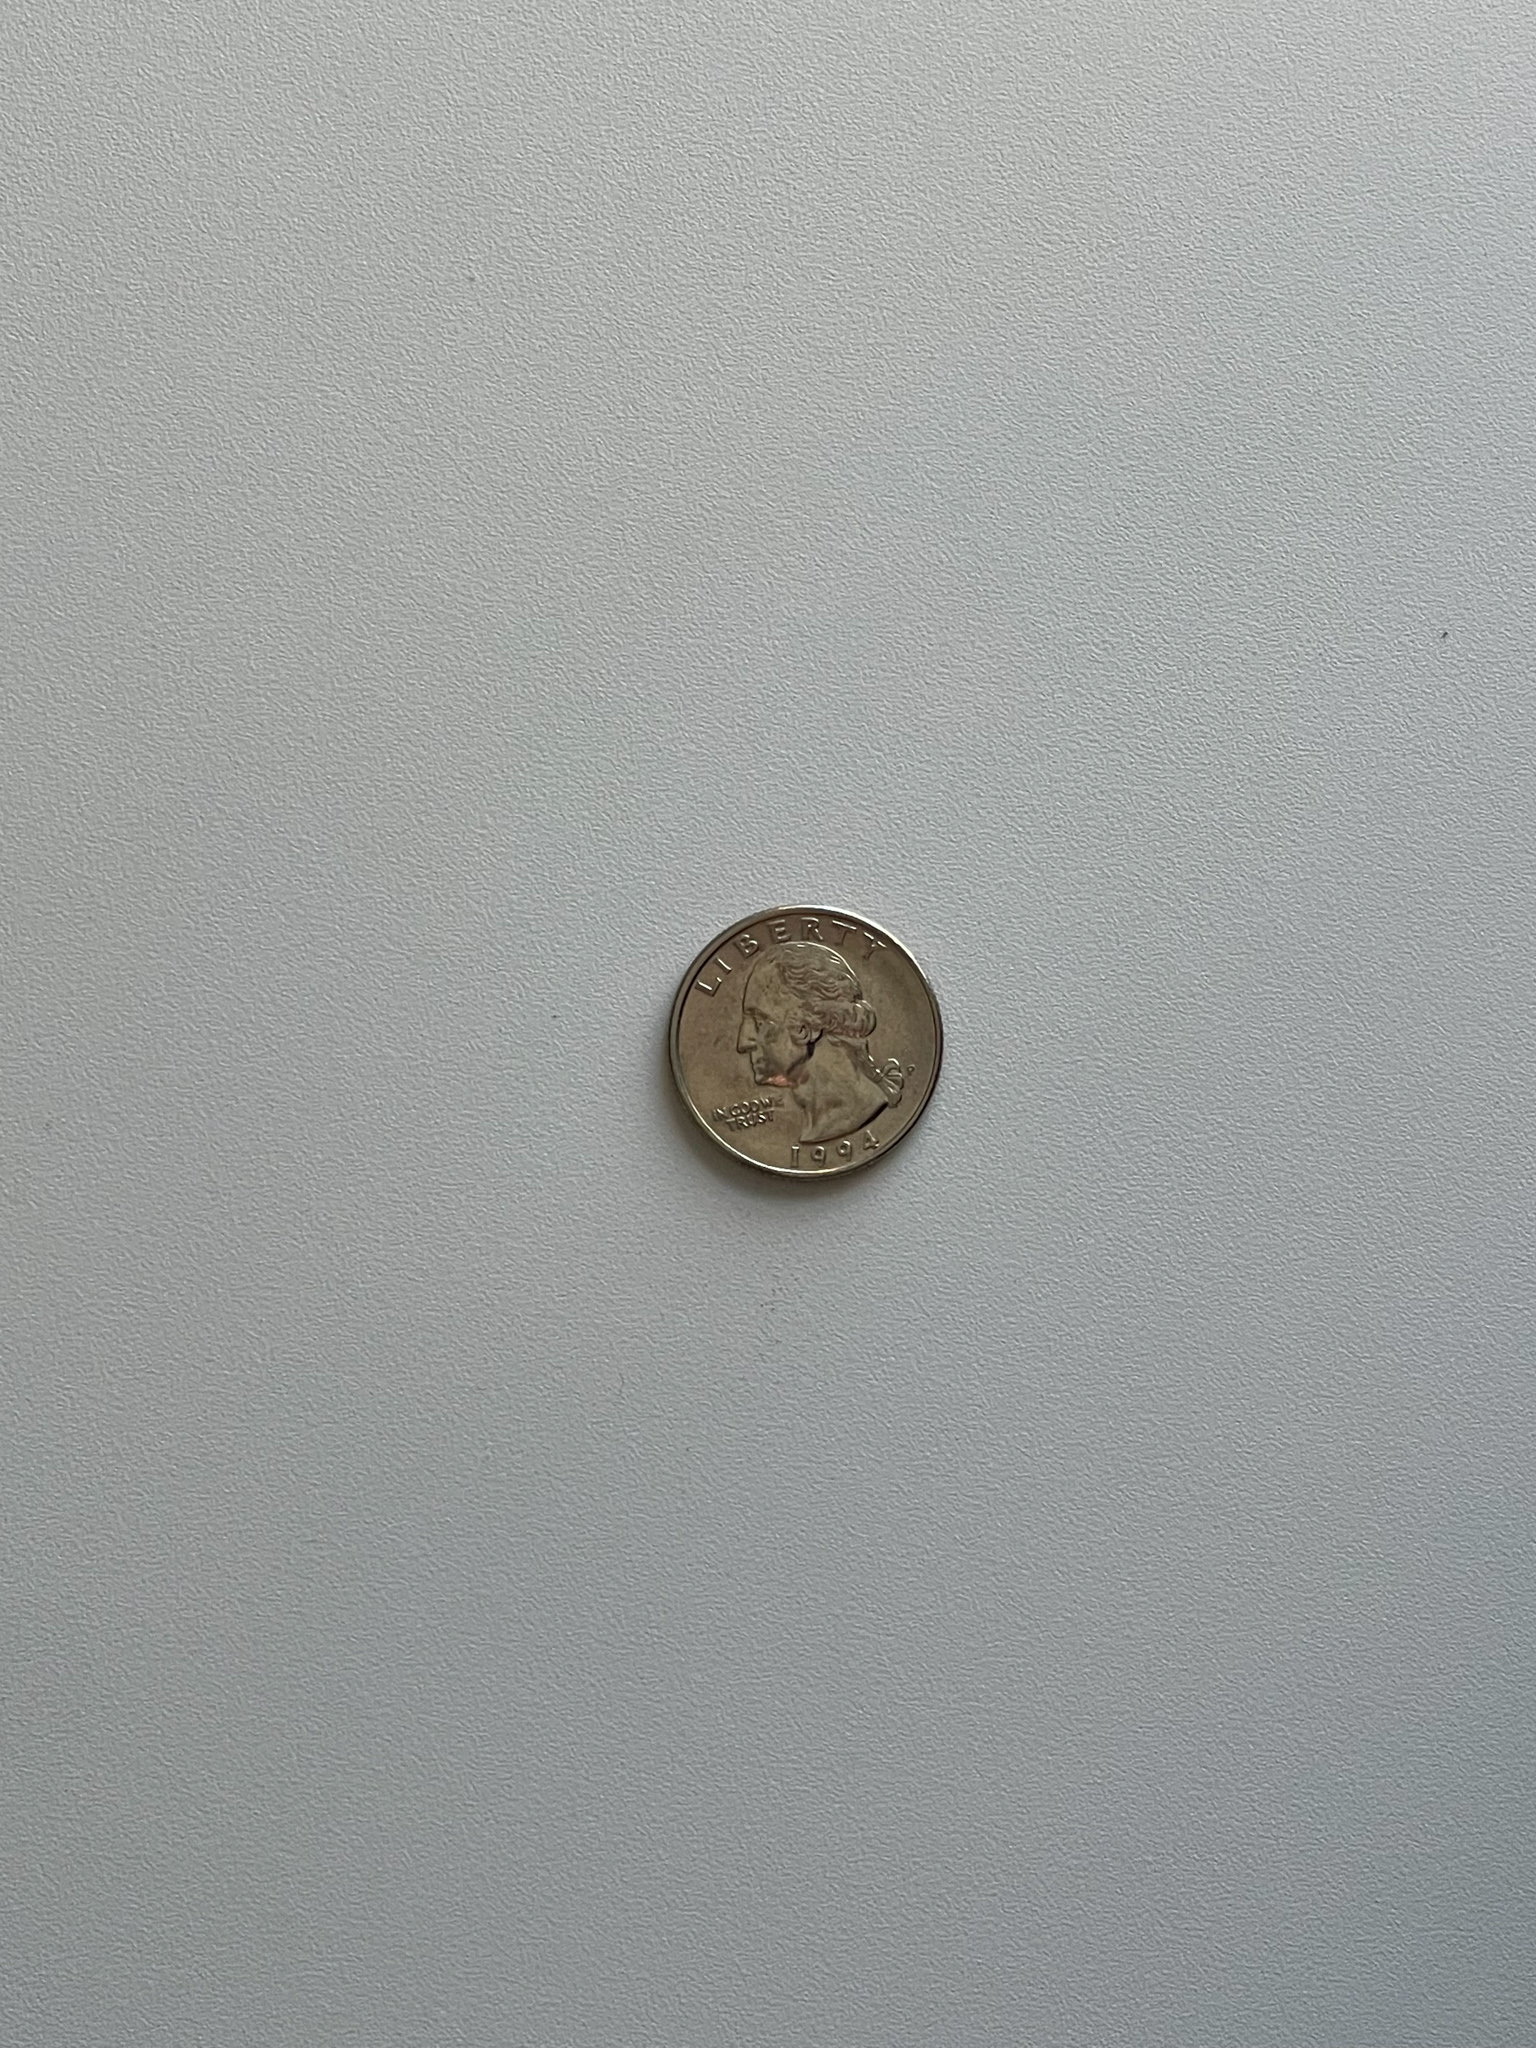quarter: (658, 893, 950, 1188)
